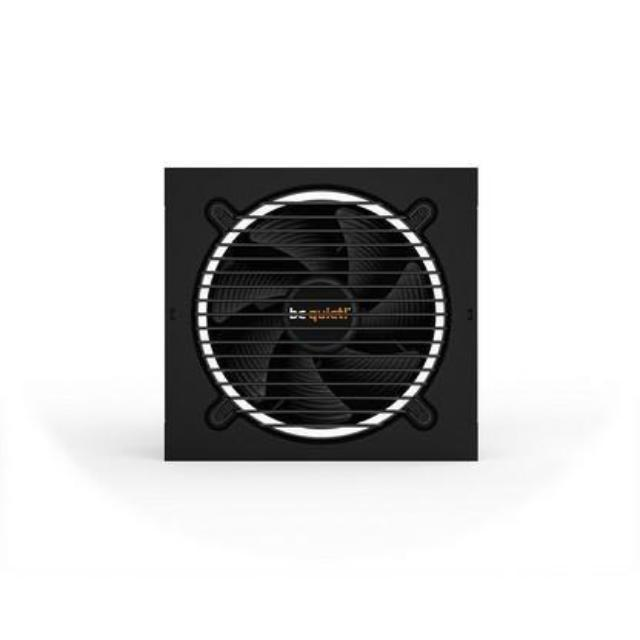PSU: (154, 150, 492, 484)
